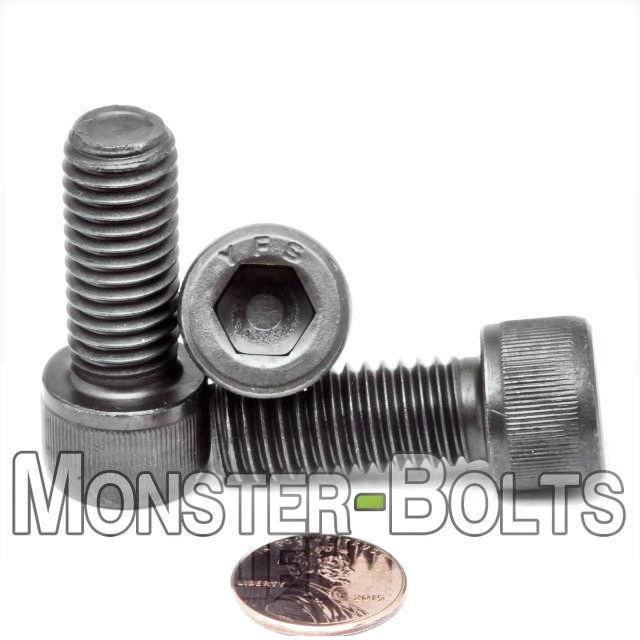allen: (213, 259, 315, 358)
